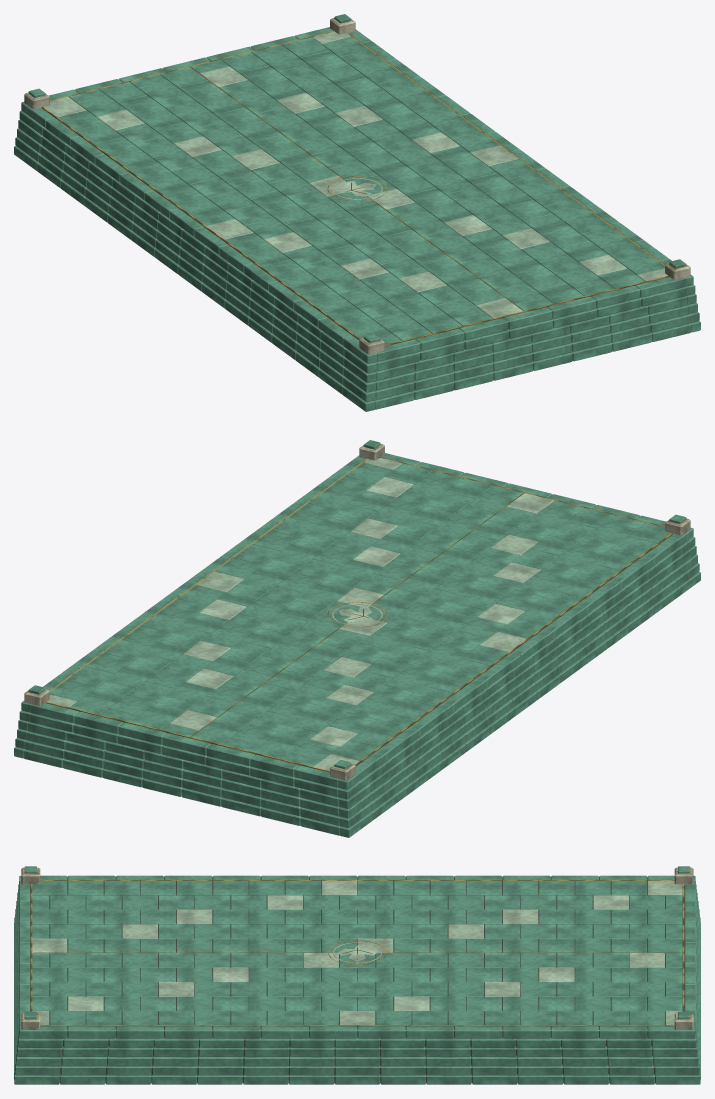
File: arena_06.fbx
3 renders of one model, top to bottom at view 1: azimuth 30°, elevation 25°; view 2: azimuth 150°, elevation 25°; view 3: azimuth 270°, elevation 25°, orthographic. The views are drawn at different scales.
Parts seen in each view (by area): view 1: arena_06; view 2: arena_06; view 3: arena_06.
Part boxes in pixels (left/top/right/bottom): arena_06: left=14, top=14, right=700, bottom=411; arena_06: left=14, top=440, right=700, bottom=837; arena_06: left=14, top=866, right=700, bottom=1084.
Size of the model in its own units: 55000 by 100000 by 10250.
